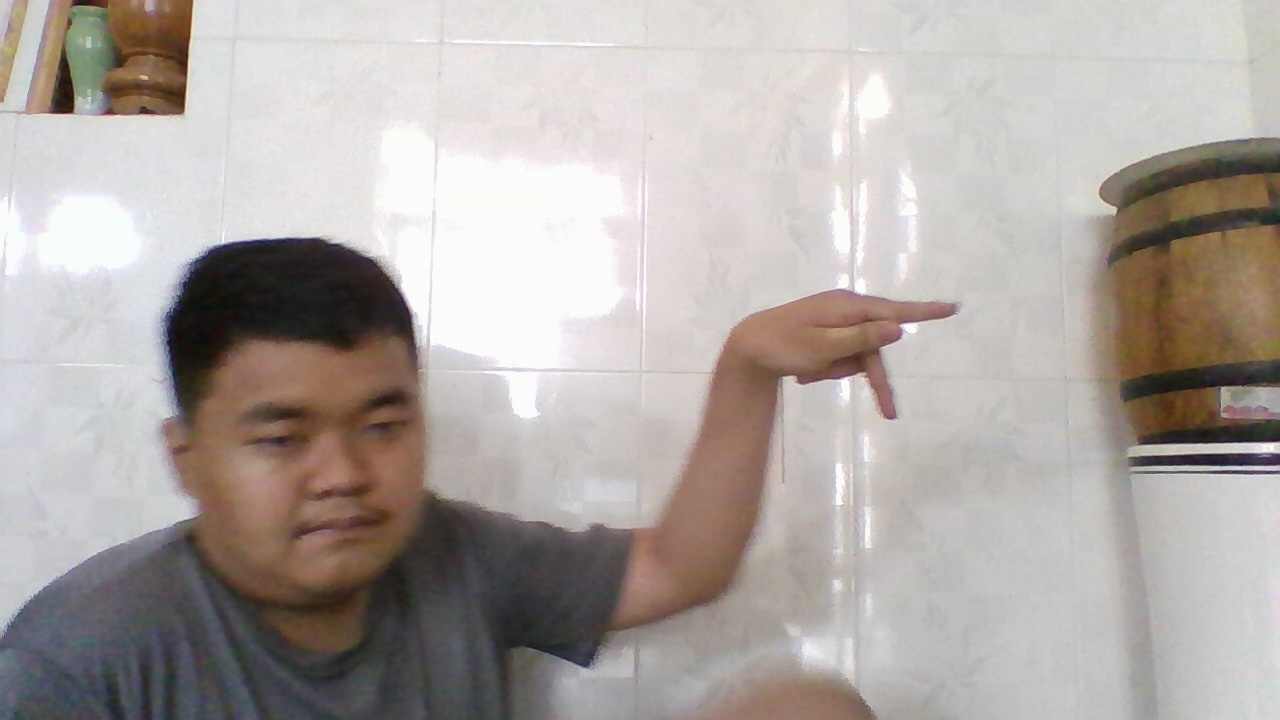P: (726, 288, 967, 418)
